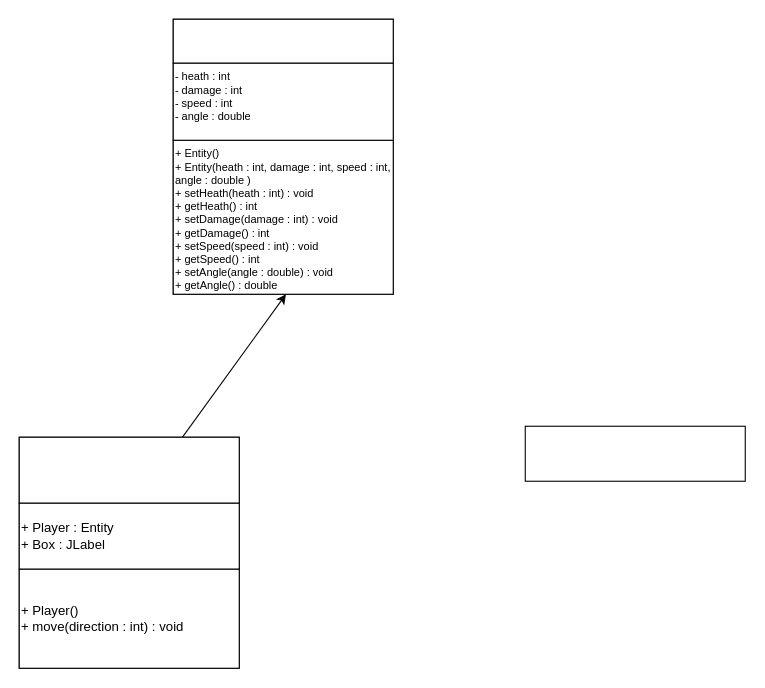
Some shapes in this 765 by 688 pixel diagram are drawn without their labels. Each missing label, with the box of its shape:
Entity: (172, 18, 393, 63)
Player: (18, 436, 239, 503)
